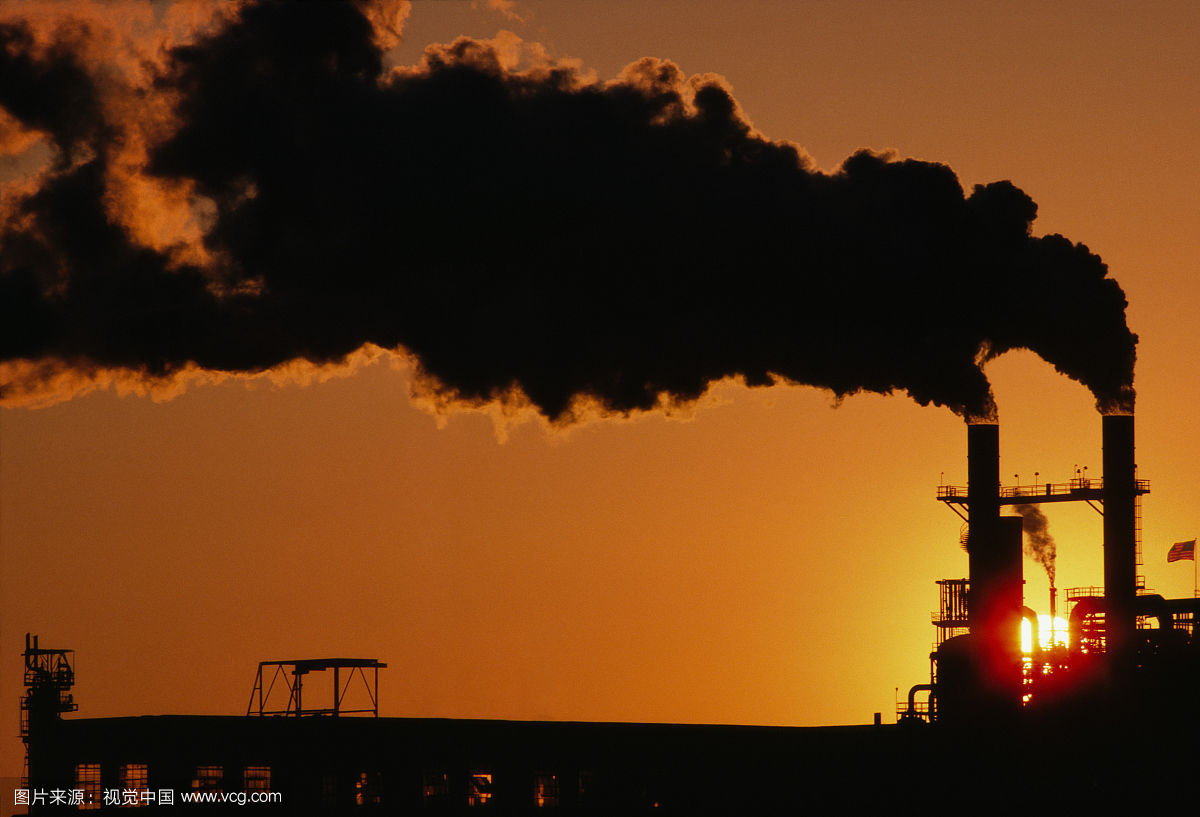dust: (692, 270, 1010, 431), (913, 195, 1147, 412)
